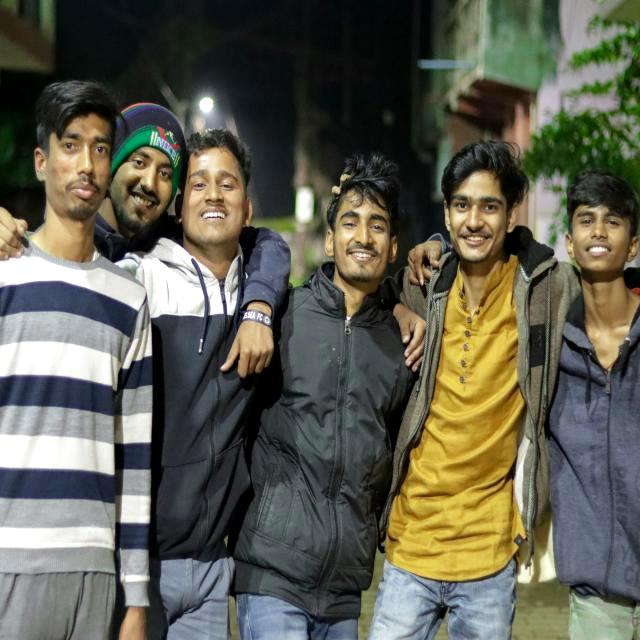no_head_wear: (441, 140, 529, 204), (35, 80, 121, 144), (327, 153, 400, 225), (112, 103, 187, 169), (567, 169, 640, 226), (186, 128, 253, 185)
person: (0, 81, 152, 640), (389, 141, 550, 640), (264, 153, 410, 640), (151, 129, 280, 640), (556, 170, 640, 640), (109, 103, 187, 251)
